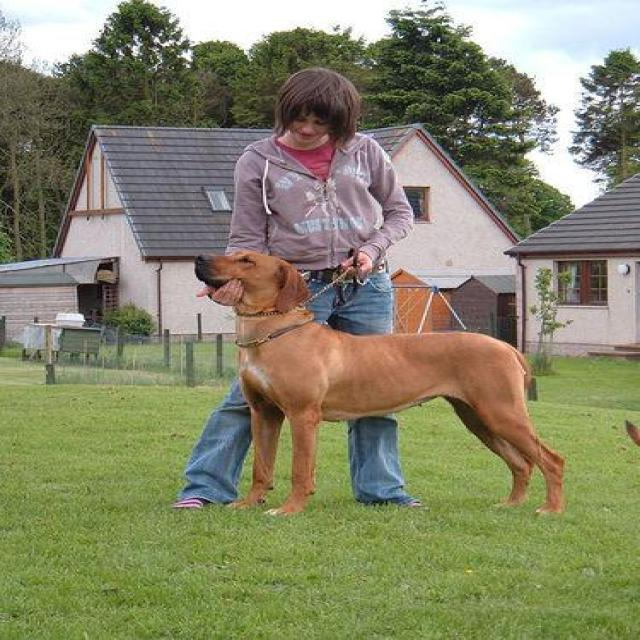rhodesian_ridgeback: (164, 251, 584, 526)
